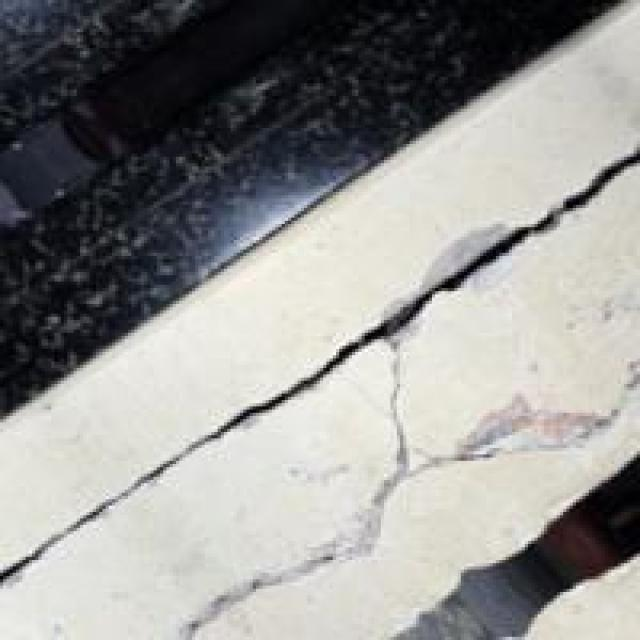crack: (64, 144, 627, 589)
